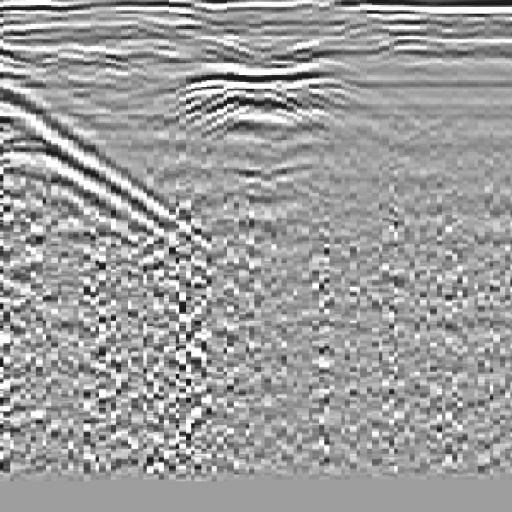metalic: (152, 38, 373, 158)
